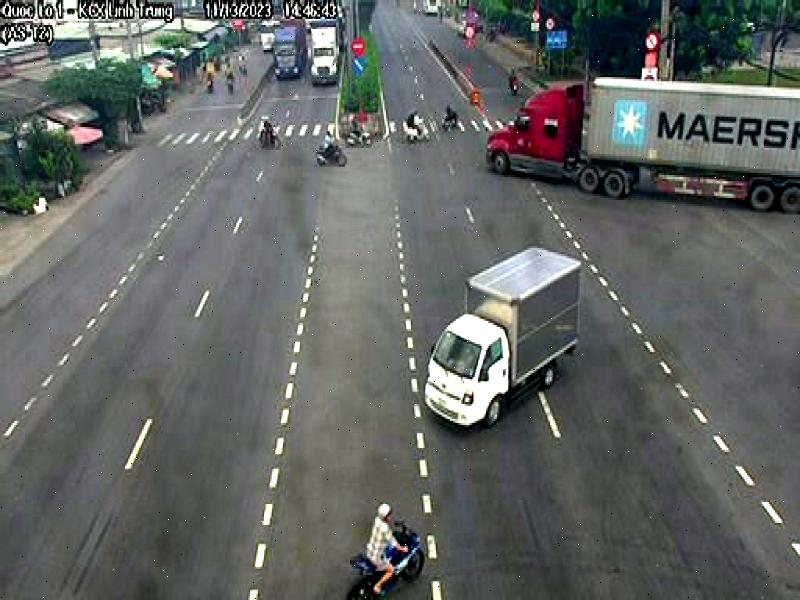truck: (484, 77, 800, 213), (420, 241, 580, 430)
